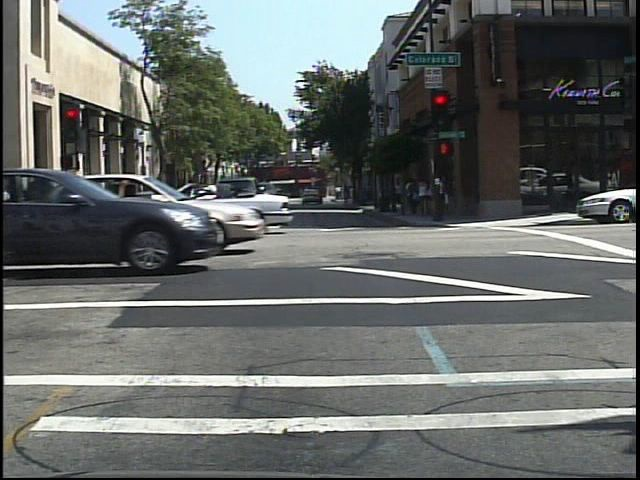person: (100, 179, 118, 225)
